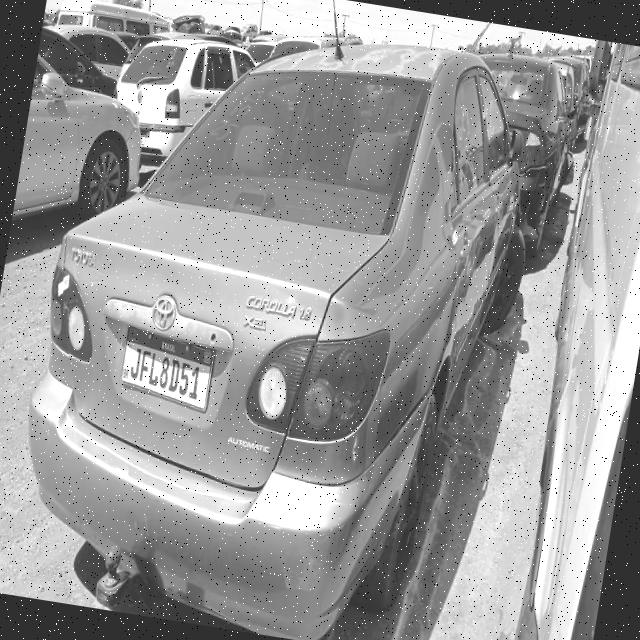numeros: (146, 352, 162, 387), (187, 366, 202, 400), (168, 359, 183, 393), (178, 362, 192, 398), (158, 356, 172, 391), (129, 347, 143, 380), (138, 350, 151, 382)
